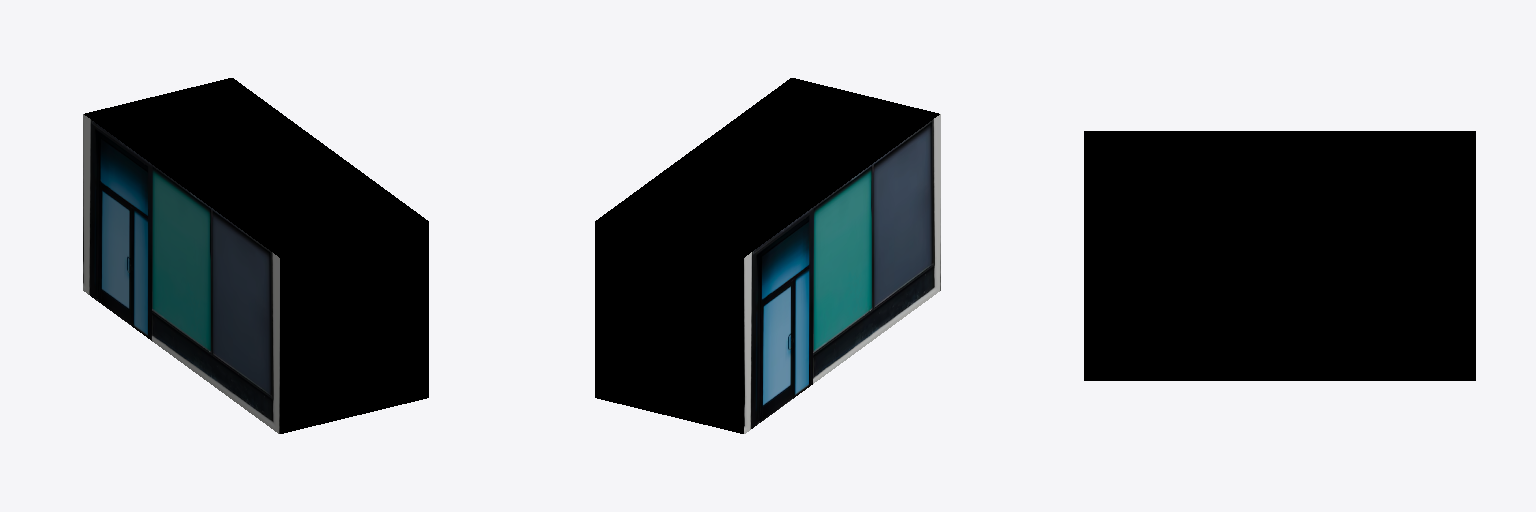
The picture shows the model from 3 angles: view 1: azimuth 30°, elevation 25°; view 2: azimuth 150°, elevation 25°; view 3: azimuth 270°, elevation 25°; orthographic projection.
Visible parts, largest first — view 1: pCube1; view 2: pCube1; view 3: pCube1.
Part boxes in pixels (bbox=[...]): pCube1: bbox=[83, 78, 428, 433]; pCube1: bbox=[595, 78, 940, 433]; pCube1: bbox=[1084, 131, 1475, 380].
Bounding box in the file's own units: 2.76 × 3.13 × 6.29.
Materials: 3 (1 with a texture image).